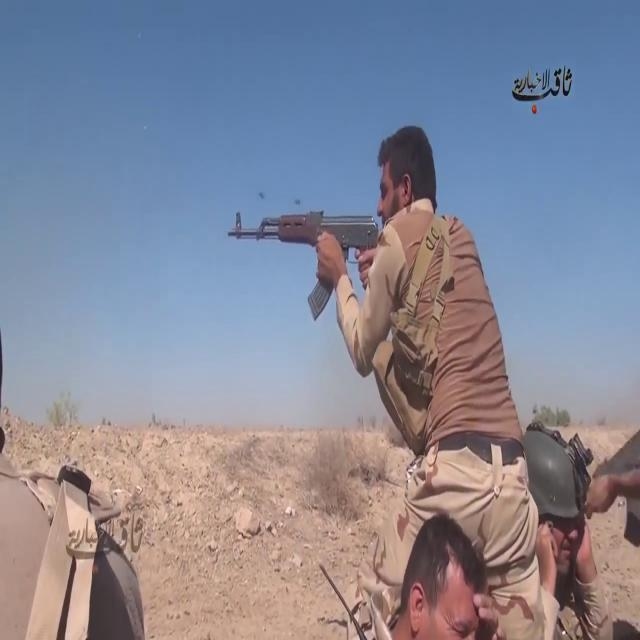long weapon: (227, 201, 379, 323)
